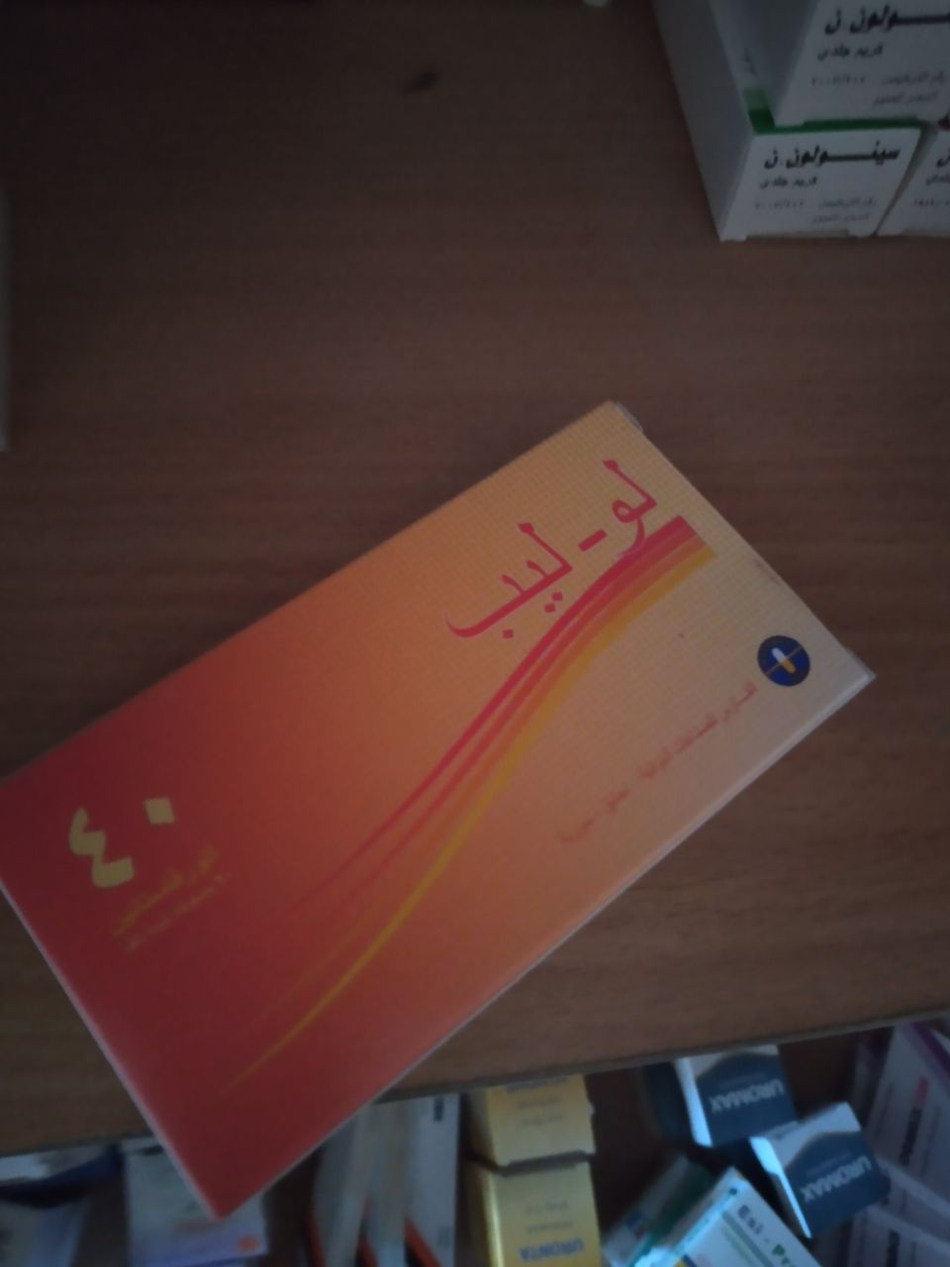Medicine: (0, 366, 910, 1198)
